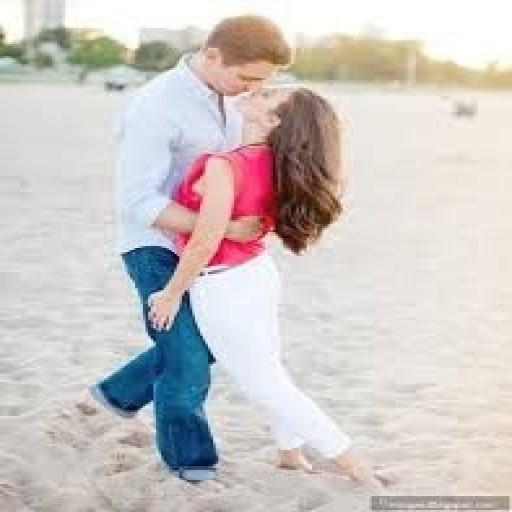hugging: (83, 12, 393, 490)
